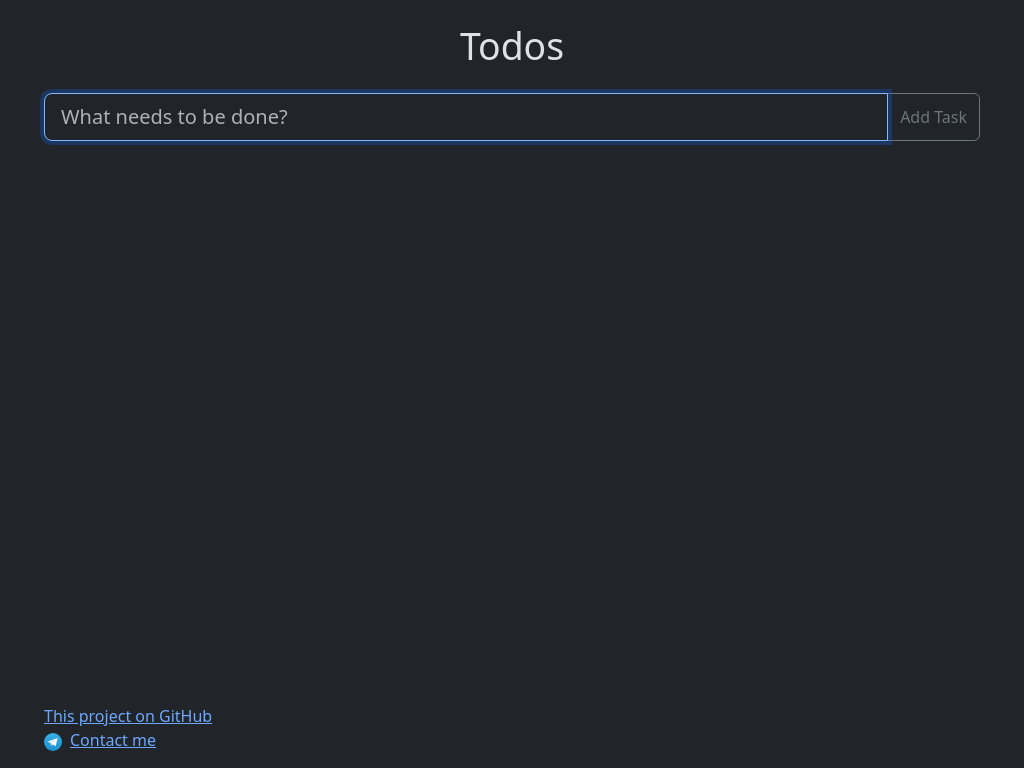
Test case: Todo App › toggles a todo as completed
Step 1. Type "Toggle Todo" into the field with placeholder "What needs to be done?" → [466, 117], box top-left (44, 93), bottom-right (888, 141)
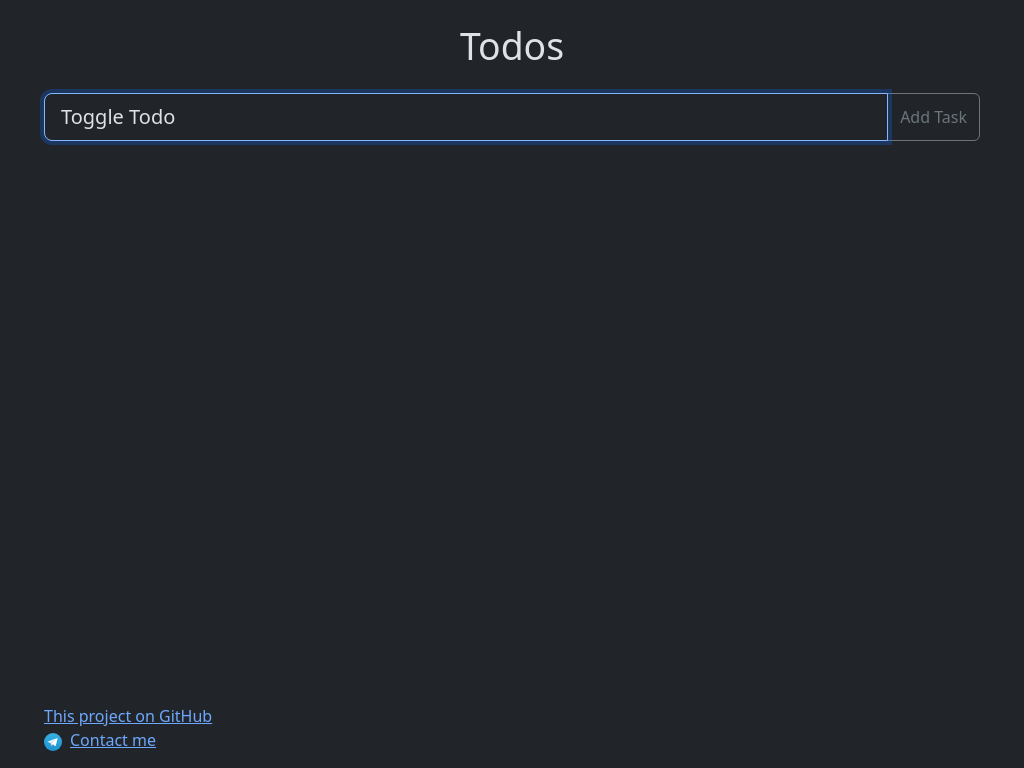
Step 2. Submit the form, box top-left (44, 93), bottom-right (980, 141)
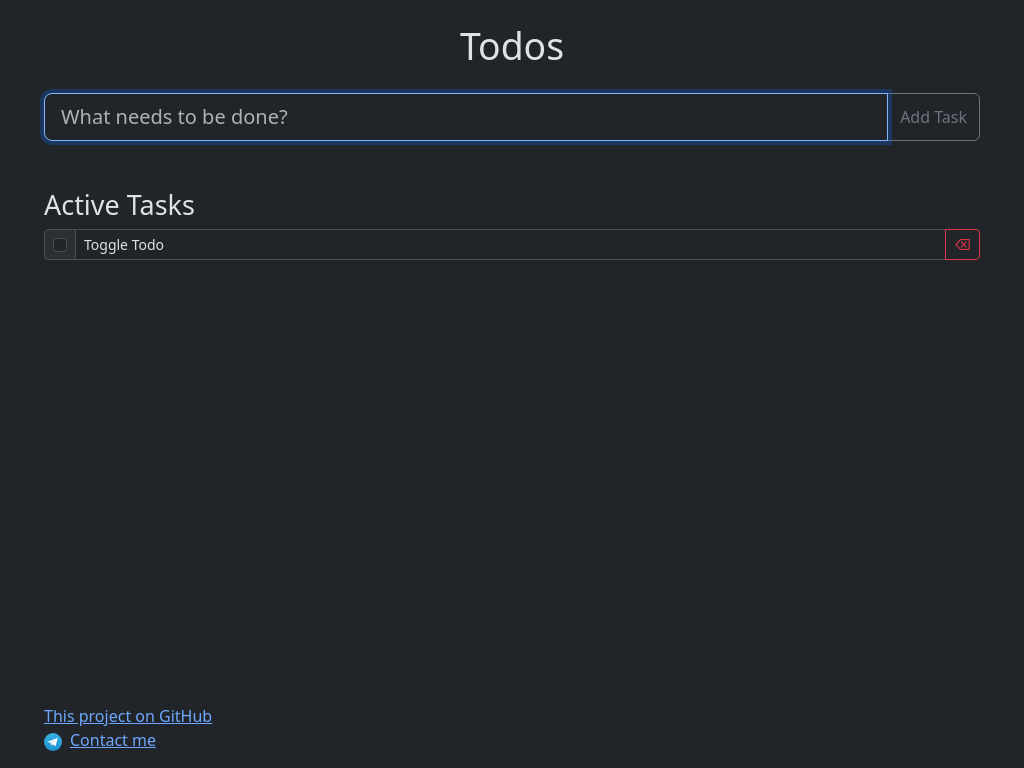
Now the checkbox is not checked
Step 3. Click the checkbox → [60, 245], box top-left (53, 238), bottom-right (67, 252)
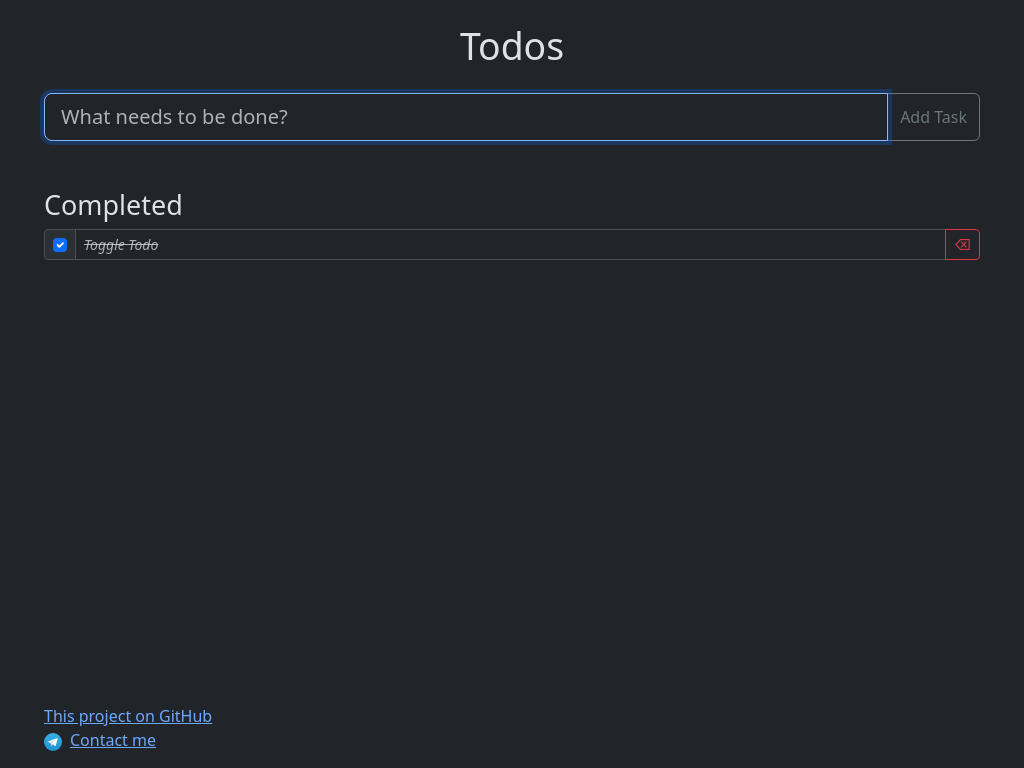
Now the checkbox is checked, box top-left (53, 238), bottom-right (67, 252)
